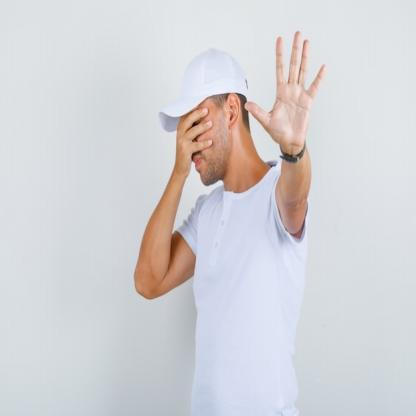stop: (243, 26, 327, 161)
